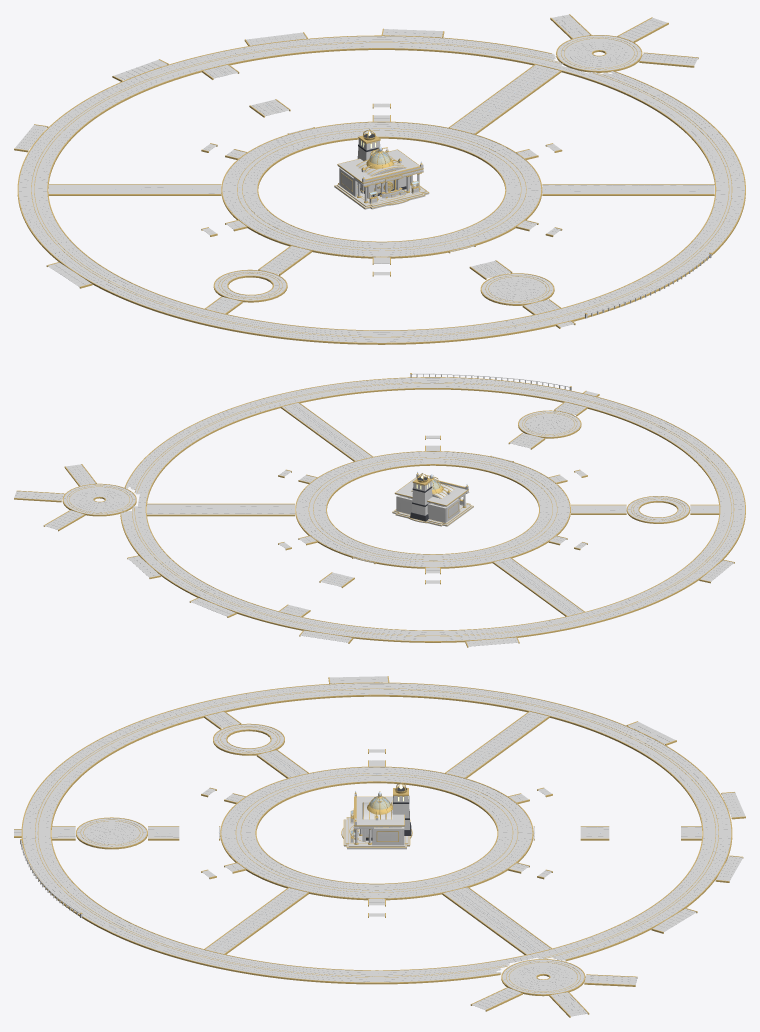
The model's file is Yggdrasil_District.fbx.
The picture shows the model from 3 angles, top to bottom: view 1: azimuth 30°, elevation 25°; view 2: azimuth 150°, elevation 25°; view 3: azimuth 270°, elevation 25°; orthographic projection. The views are drawn at different scales.
Parts seen in each view (by area): view 1: HB_RingPlaza__Marble, HB_Avenues__Marble, HB_RingRoadSW__Marble, HB_RingRoadNW__Marble, HB_RingRoadSE__Marble, HB_RingRoadNE__Marble, HB_Plazas__Marble, HB_RingPlaza__GoldFlat, HB_Avenues__Gold, HB_RingPlaza__Lapis, HB_Market__Marble, HB_Aprons__Marble (+26 smaller); view 2: HB_RingPlaza__Marble, HB_Avenues__Marble, HB_RingRoadSE__Marble, HB_RingRoadNW__Marble, HB_RingRoadSW__Marble, HB_RingRoadNE__Marble, HB_Plazas__Marble, HB_RingPlaza__GoldFlat, HB_Avenues__Gold, HB_RingPlaza__Lapis, HB_Market__Marble, HB_Avenues__GoldFlat (+25 smaller); view 3: HB_RingPlaza__Marble, HB_Avenues__Marble, HB_RingRoadSE__Marble, HB_RingRoadSW__Marble, HB_RingRoadNW__Marble, HB_RingRoadNE__Marble, HB_Plazas__Marble, HB_RingPlaza__GoldFlat, HB_RingPlaza__Lapis, HB_Aprons__Marble, HB_Avenues__Gold, HB_Avenues__GoldFlat (+25 smaller).
Part boxes in pixels (left/top/right/bottom): HB_RingPlaza__Marble: left=222, top=122, right=540, bottom=256; HB_Avenues__Marble: left=49, top=14, right=714, bottom=327; HB_RingRoadSW__Marble: left=68, top=260, right=562, bottom=342; HB_RingRoadNW__Marble: left=19, top=57, right=213, bottom=266; HB_RingRoadSE__Marble: left=549, top=113, right=744, bottom=322; HB_RingRoadNE__Marble: left=200, top=36, right=695, bottom=118; HB_Plazas__Marble: left=215, top=35, right=640, bottom=303; HB_RingPlaza__GoldFlat: left=221, top=121, right=542, bottom=257; HB_Avenues__Gold: left=48, top=14, right=714, bottom=328; HB_RingPlaza__Lapis: left=237, top=128, right=525, bottom=250; HB_Market__Marble: left=334, top=149, right=429, bottom=209; HB_Aprons__Marble: left=15, top=29, right=442, bottom=286; HB_RingPlaza__Marble: left=296, top=451, right=569, bottom=567; HB_Avenues__Marble: left=14, top=391, right=718, bottom=616; HB_RingRoadSE__Marble: left=163, top=377, right=588, bottom=448; HB_RingRoadNW__Marble: left=277, top=570, right=702, bottom=640; HB_RingRoadSW__Marble: left=577, top=395, right=744, bottom=575; HB_RingRoadNE__Marble: left=121, top=443, right=288, bottom=623; HB_Plazas__Marble: left=63, top=411, right=688, bottom=522; HB_RingPlaza__GoldFlat: left=295, top=451, right=570, bottom=567; HB_Avenues__Gold: left=14, top=391, right=719, bottom=616; HB_RingPlaza__Lapis: left=309, top=457, right=556, bottom=561; HB_Market__Marble: left=392, top=474, right=473, bottom=526; HB_Avenues__GoldFlat: left=14, top=390, right=718, bottom=616; HB_RingPlaza__Marble: left=221, top=767, right=532, bottom=898; HB_Avenues__Marble: left=14, top=711, right=701, bottom=1016; HB_RingRoadSE__Marble: left=22, top=833, right=376, bottom=982; HB_RingRoadSW__Marble: left=22, top=683, right=376, bottom=832; HB_RingRoadNW__Marble: left=377, top=683, right=731, bottom=832; HB_RingRoadNE__Marble: left=377, top=833, right=731, bottom=982; HB_Plazas__Marble: left=77, top=724, right=584, bottom=993; HB_RingPlaza__GoldFlat: left=220, top=766, right=533, bottom=898; HB_RingPlaza__Lapis: left=236, top=773, right=517, bottom=892; HB_Aprons__Marble: left=329, top=676, right=745, bottom=931; HB_Avenues__Gold: left=14, top=711, right=701, bottom=1017; HB_Avenues__GoldFlat: left=14, top=711, right=701, bottom=1016.
Size of the model in its own units: 535 by 38.32 by 486.
